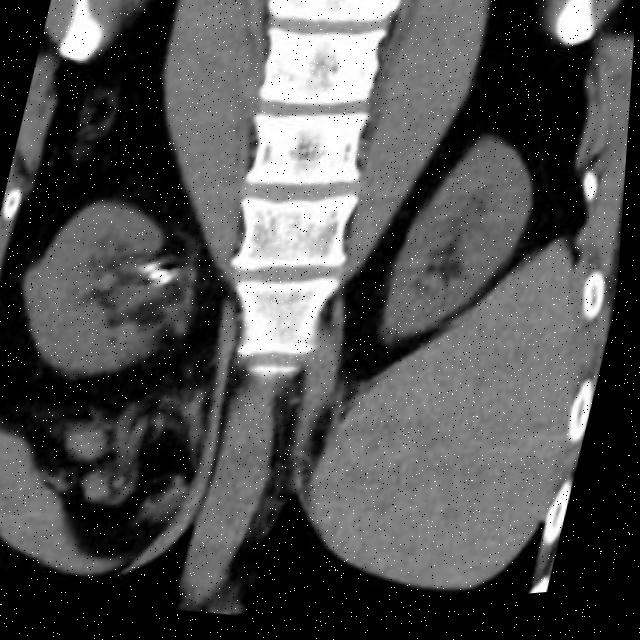Tas_Var: (149, 269, 175, 288), (162, 275, 178, 292), (147, 264, 163, 279)
